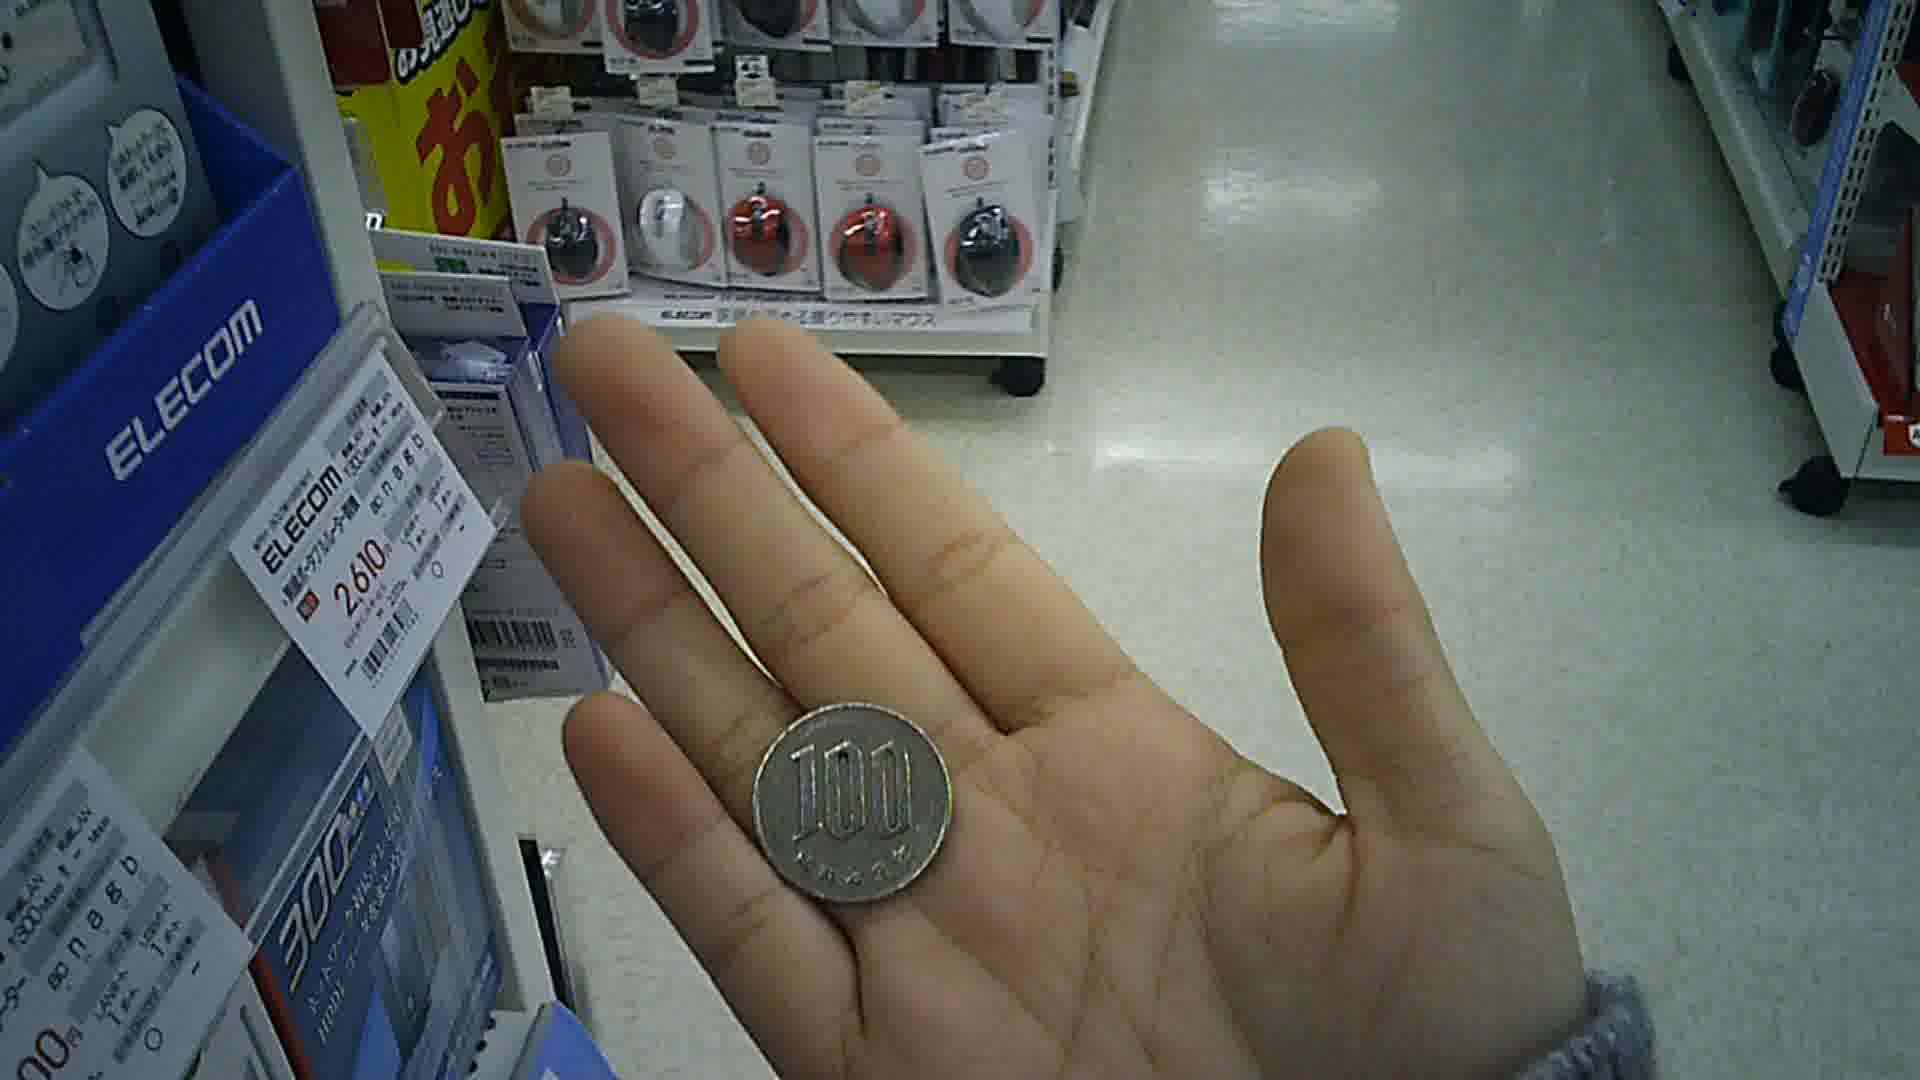100 Yen: (746, 694, 963, 911)
